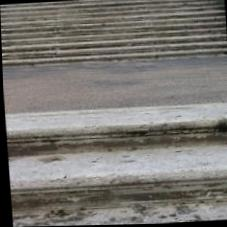Bench: (20, 108, 202, 205)
